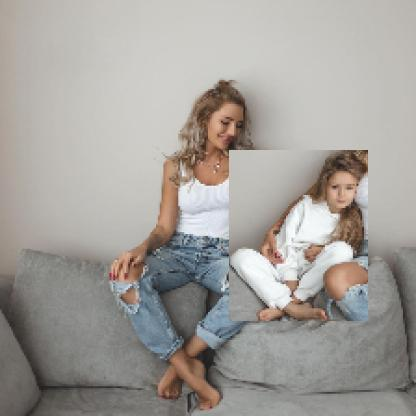child: (230, 151, 370, 323)
